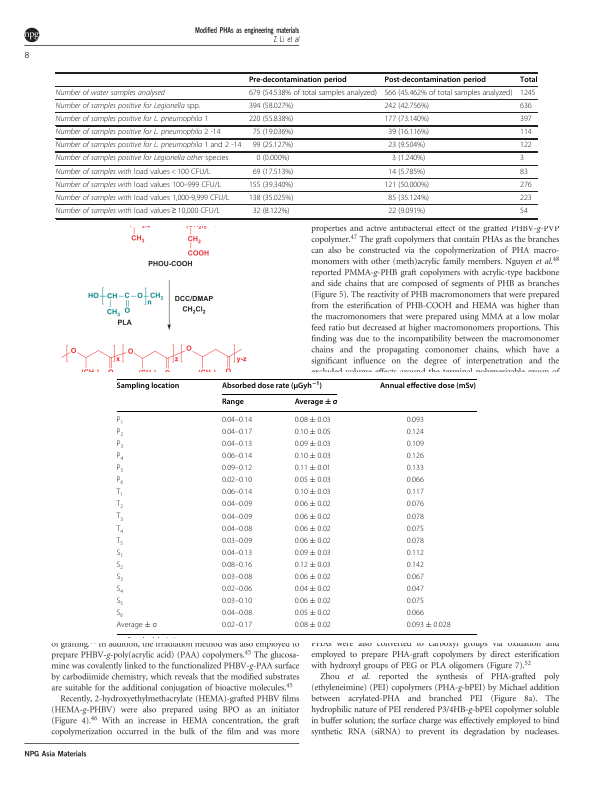borderless: (115, 377, 477, 634), (55, 71, 537, 218)
cell: (55, 193, 231, 203), (55, 141, 242, 150), (55, 180, 222, 190), (55, 127, 221, 137), (55, 206, 221, 216), (55, 154, 229, 163), (55, 114, 209, 124), (55, 101, 201, 111), (55, 167, 211, 176), (248, 88, 378, 98), (383, 88, 513, 98), (221, 380, 323, 391), (55, 88, 166, 98), (379, 381, 477, 391), (383, 75, 487, 84), (248, 75, 347, 84), (116, 381, 180, 391), (383, 101, 430, 111), (383, 114, 430, 124), (383, 180, 430, 190), (248, 101, 294, 111), (248, 114, 294, 124), (248, 180, 294, 190), (248, 193, 294, 203), (294, 397, 338, 407), (387, 127, 430, 137), (387, 193, 430, 203), (252, 127, 294, 137), (406, 621, 452, 630), (387, 206, 426, 216), (115, 621, 158, 630), (294, 415, 332, 425), (294, 427, 332, 437), (294, 536, 332, 546), (294, 548, 332, 558), (252, 206, 290, 216), (252, 141, 294, 150), (252, 167, 294, 176), (387, 141, 426, 150), (387, 167, 426, 176), (294, 440, 332, 449), (294, 452, 332, 461), (294, 464, 332, 473), (294, 476, 332, 485), (294, 488, 332, 497), (294, 500, 332, 509), (294, 512, 332, 521), (294, 524, 332, 533), (294, 561, 332, 570), (294, 573, 332, 582), (294, 585, 332, 594), (294, 597, 332, 606), (294, 609, 332, 618), (294, 621, 332, 630), (221, 415, 253, 425), (221, 427, 253, 437), (221, 536, 253, 546), (221, 548, 253, 558), (255, 154, 290, 163), (391, 154, 426, 163), (221, 440, 253, 449), (221, 452, 253, 461), (221, 464, 253, 473), (221, 476, 253, 485), (221, 488, 253, 497), (221, 500, 253, 509), (221, 512, 253, 521), (221, 524, 253, 533), (221, 561, 253, 570), (221, 573, 253, 582), (221, 585, 253, 594), (221, 597, 253, 606), (221, 609, 253, 618), (221, 621, 253, 630), (221, 397, 245, 407), (406, 415, 425, 425), (406, 427, 425, 437), (406, 536, 425, 546), (406, 548, 425, 558), (406, 440, 425, 449), (406, 452, 425, 461), (406, 464, 425, 473), (406, 476, 425, 485), (406, 488, 425, 497), (406, 500, 425, 509), (406, 512, 425, 521), (406, 524, 425, 533), (406, 561, 425, 570), (406, 573, 425, 582), (406, 585, 425, 594), (406, 597, 425, 606), (406, 609, 425, 618), (519, 75, 538, 84), (519, 88, 536, 98), (519, 101, 533, 111), (519, 114, 533, 124), (519, 127, 533, 137), (519, 180, 533, 190), (519, 193, 533, 203), (519, 141, 533, 150), (519, 206, 529, 216), (115, 488, 124, 499), (115, 500, 124, 511), (115, 512, 124, 523), (115, 524, 124, 535), (115, 536, 124, 547), (115, 548, 124, 559), (115, 597, 124, 608), (115, 609, 124, 620), (115, 561, 124, 571), (115, 573, 124, 583), (115, 585, 124, 595), (519, 167, 529, 176), (116, 415, 124, 426), (116, 427, 124, 438), (116, 476, 124, 487), (116, 440, 124, 450), (116, 452, 124, 462), (116, 464, 124, 474), (519, 154, 525, 163)
